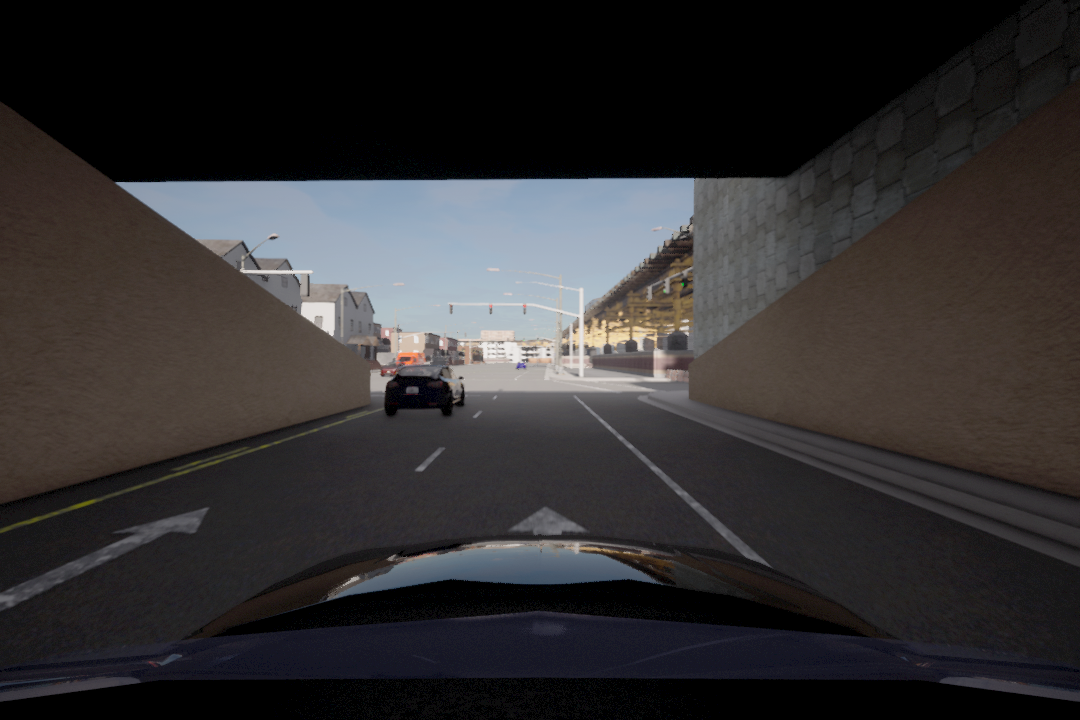RoadSign_forward: (4, 496, 213, 617)
